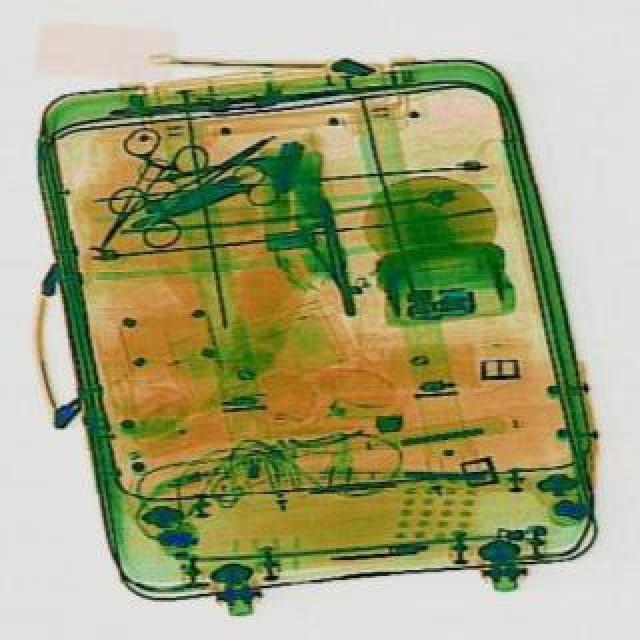pliers: (100, 106, 296, 262), (62, 116, 214, 272), (124, 154, 286, 254), (134, 146, 228, 206)
